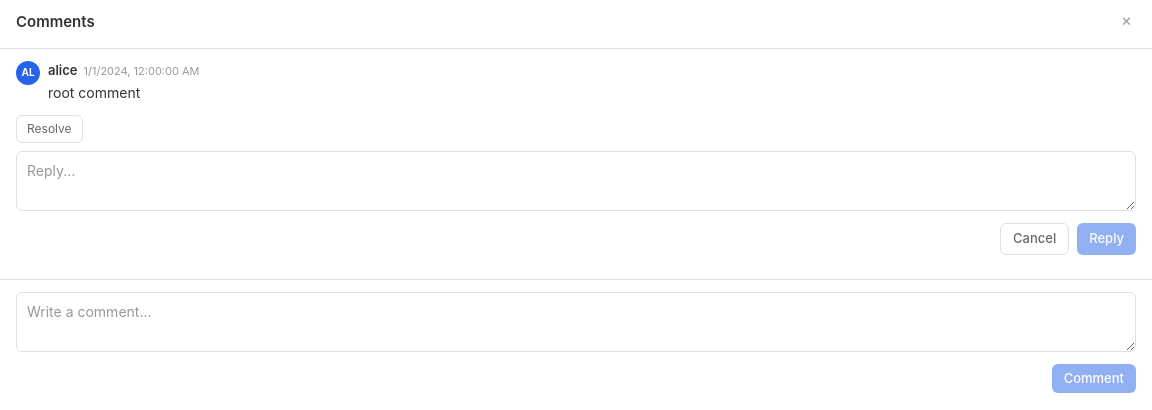
Test: CommentThread › resolves a thread and shows the resolved banner
Click the button with class "comment-resolve-btn" at coordinates (49, 129), box [16,115,82,143]
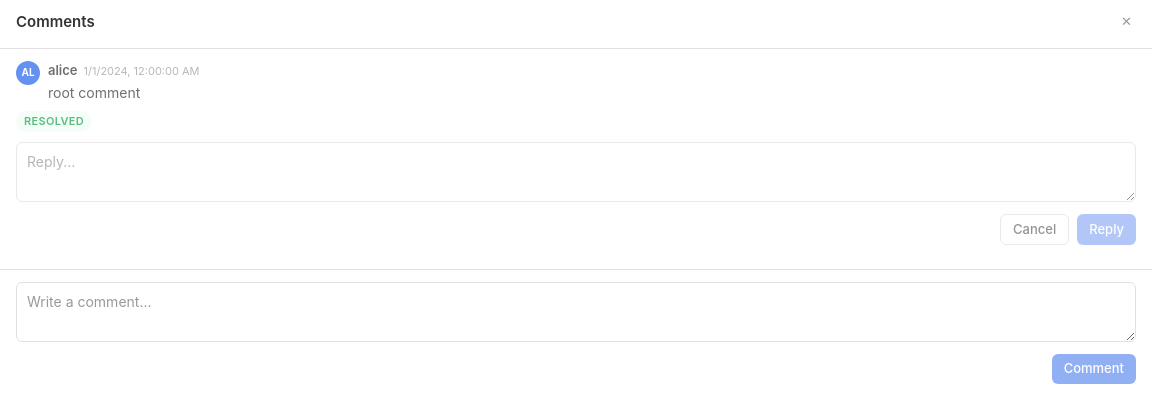
Now the text "Resolved" is shown, box [16,111,92,132]
